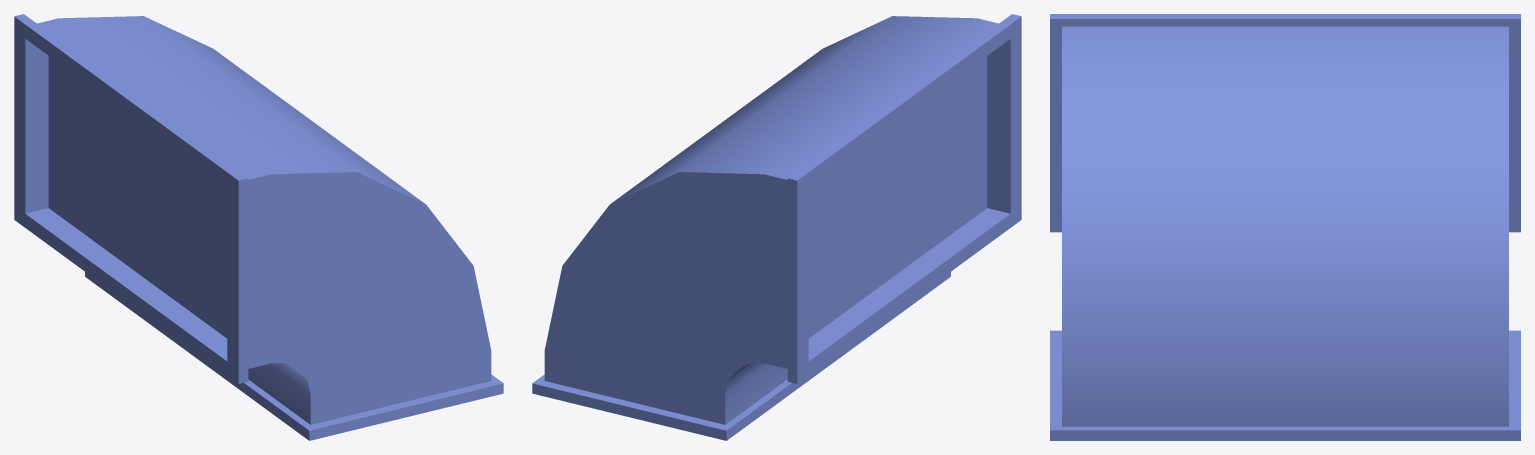
Rendered from SM_PROP_VENT_06.fbx.
3 renders of one model, left to right at view 1: azimuth 30°, elevation 25°; view 2: azimuth 150°, elevation 25°; view 3: azimuth 270°, elevation 25°, orthographic. The views are drawn at different scales.
Visible parts, largest first — view 1: SM_PROP_VENT_06; view 2: SM_PROP_VENT_06; view 3: SM_PROP_VENT_06.
Boxes of the visible parts, x1,y1,x2,y2 form: SM_PROP_VENT_06: [14, 14, 503, 440]; SM_PROP_VENT_06: [532, 14, 1021, 440]; SM_PROP_VENT_06: [1050, 14, 1520, 440].
Size of the model in its own units: 1.36 by 1.36 by 2.
